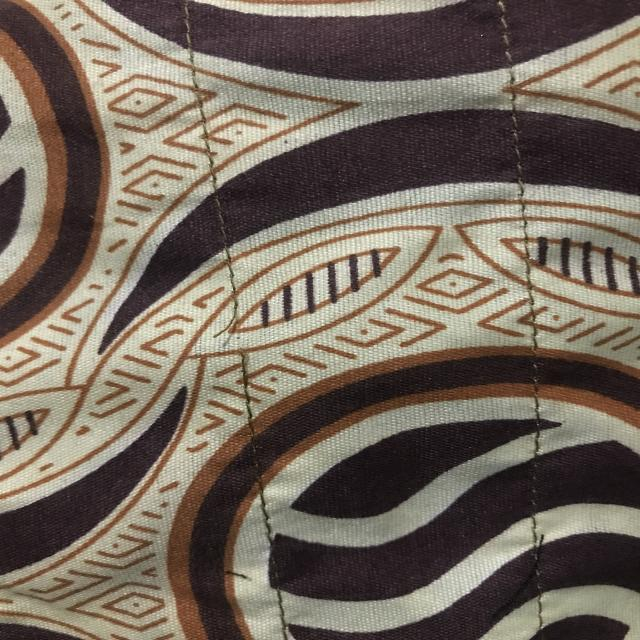broken: (193, 297, 275, 369)
good: (199, 188, 248, 250)
